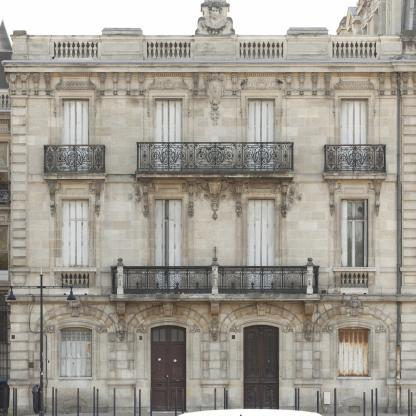Balcony: (108, 258, 320, 301)
Blind: (62, 199, 89, 288), (248, 99, 276, 171), (62, 99, 89, 173), (341, 99, 368, 173), (155, 99, 182, 171), (61, 330, 91, 377), (339, 330, 368, 377), (341, 200, 348, 271), (364, 199, 367, 267)
Building Outline: (0, 0, 416, 415)
Cornice: (322, 316, 386, 333), (137, 316, 201, 333), (229, 316, 293, 333), (44, 316, 107, 333), (55, 183, 96, 207), (334, 183, 375, 207), (241, 183, 282, 207), (148, 183, 189, 207), (55, 72, 96, 90), (149, 72, 189, 90), (335, 72, 375, 89), (241, 72, 281, 89)
Deco: (194, 177, 236, 221), (195, 2, 235, 35), (203, 72, 227, 126), (66, 295, 84, 317), (346, 294, 363, 316), (210, 318, 220, 342), (304, 318, 313, 342), (117, 318, 126, 342), (161, 302, 175, 316), (255, 302, 268, 316)
Door: (243, 325, 280, 411), (248, 199, 275, 294), (155, 199, 182, 294), (151, 343, 186, 411)
Facade: (10, 63, 415, 415)
Floor: (10, 181, 416, 302)
Floor Slab: (10, 294, 416, 302), (10, 173, 416, 181)
Ground Floor: (10, 302, 416, 415)
Molding: (9, 72, 416, 95)
Sill: (135, 170, 296, 178), (322, 172, 388, 180), (42, 173, 107, 181), (341, 288, 369, 294), (61, 288, 89, 294)
Top Floor: (10, 63, 416, 181)
Window: (61, 199, 89, 288), (341, 199, 368, 288), (248, 99, 276, 171), (62, 99, 89, 173), (341, 99, 368, 173), (155, 99, 182, 171), (338, 326, 371, 376), (59, 327, 92, 377), (151, 325, 186, 343)
dont: (6, 265, 77, 416), (177, 409, 323, 416), (13, 387, 17, 416), (375, 388, 378, 416), (371, 389, 374, 416), (363, 392, 366, 416), (52, 386, 54, 416), (94, 386, 96, 416), (134, 386, 136, 416), (175, 386, 177, 416), (96, 388, 98, 416), (56, 388, 58, 416), (77, 388, 79, 416), (114, 388, 116, 416), (150, 388, 152, 416), (334, 388, 336, 416), (408, 388, 410, 416), (139, 389, 141, 416), (182, 389, 184, 416), (215, 388, 217, 415), (411, 392, 413, 416), (317, 391, 319, 414), (295, 388, 297, 410), (298, 388, 300, 410), (224, 388, 226, 409), (255, 388, 257, 409), (261, 388, 263, 409), (226, 390, 228, 409), (271, 390, 273, 409)
